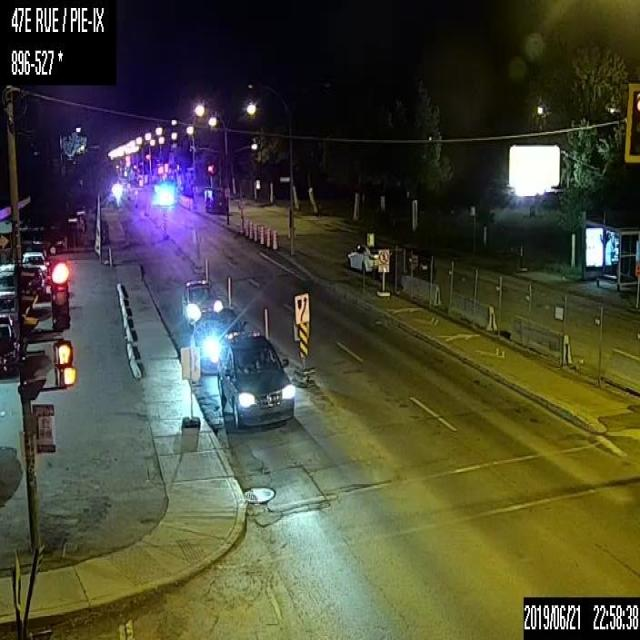construction: (225, 276, 232, 311), (263, 306, 268, 338), (203, 256, 208, 279), (247, 220, 252, 239), (238, 217, 243, 236), (265, 228, 270, 247), (244, 216, 249, 234), (272, 229, 276, 248), (253, 223, 257, 242), (259, 225, 263, 243)
vehicle: (216, 329, 296, 428), (189, 309, 246, 376), (178, 277, 224, 328), (388, 242, 436, 280), (0, 313, 20, 377), (346, 242, 388, 272), (18, 264, 45, 298), (20, 251, 48, 276), (202, 188, 226, 214), (0, 290, 17, 320), (0, 270, 15, 294)
